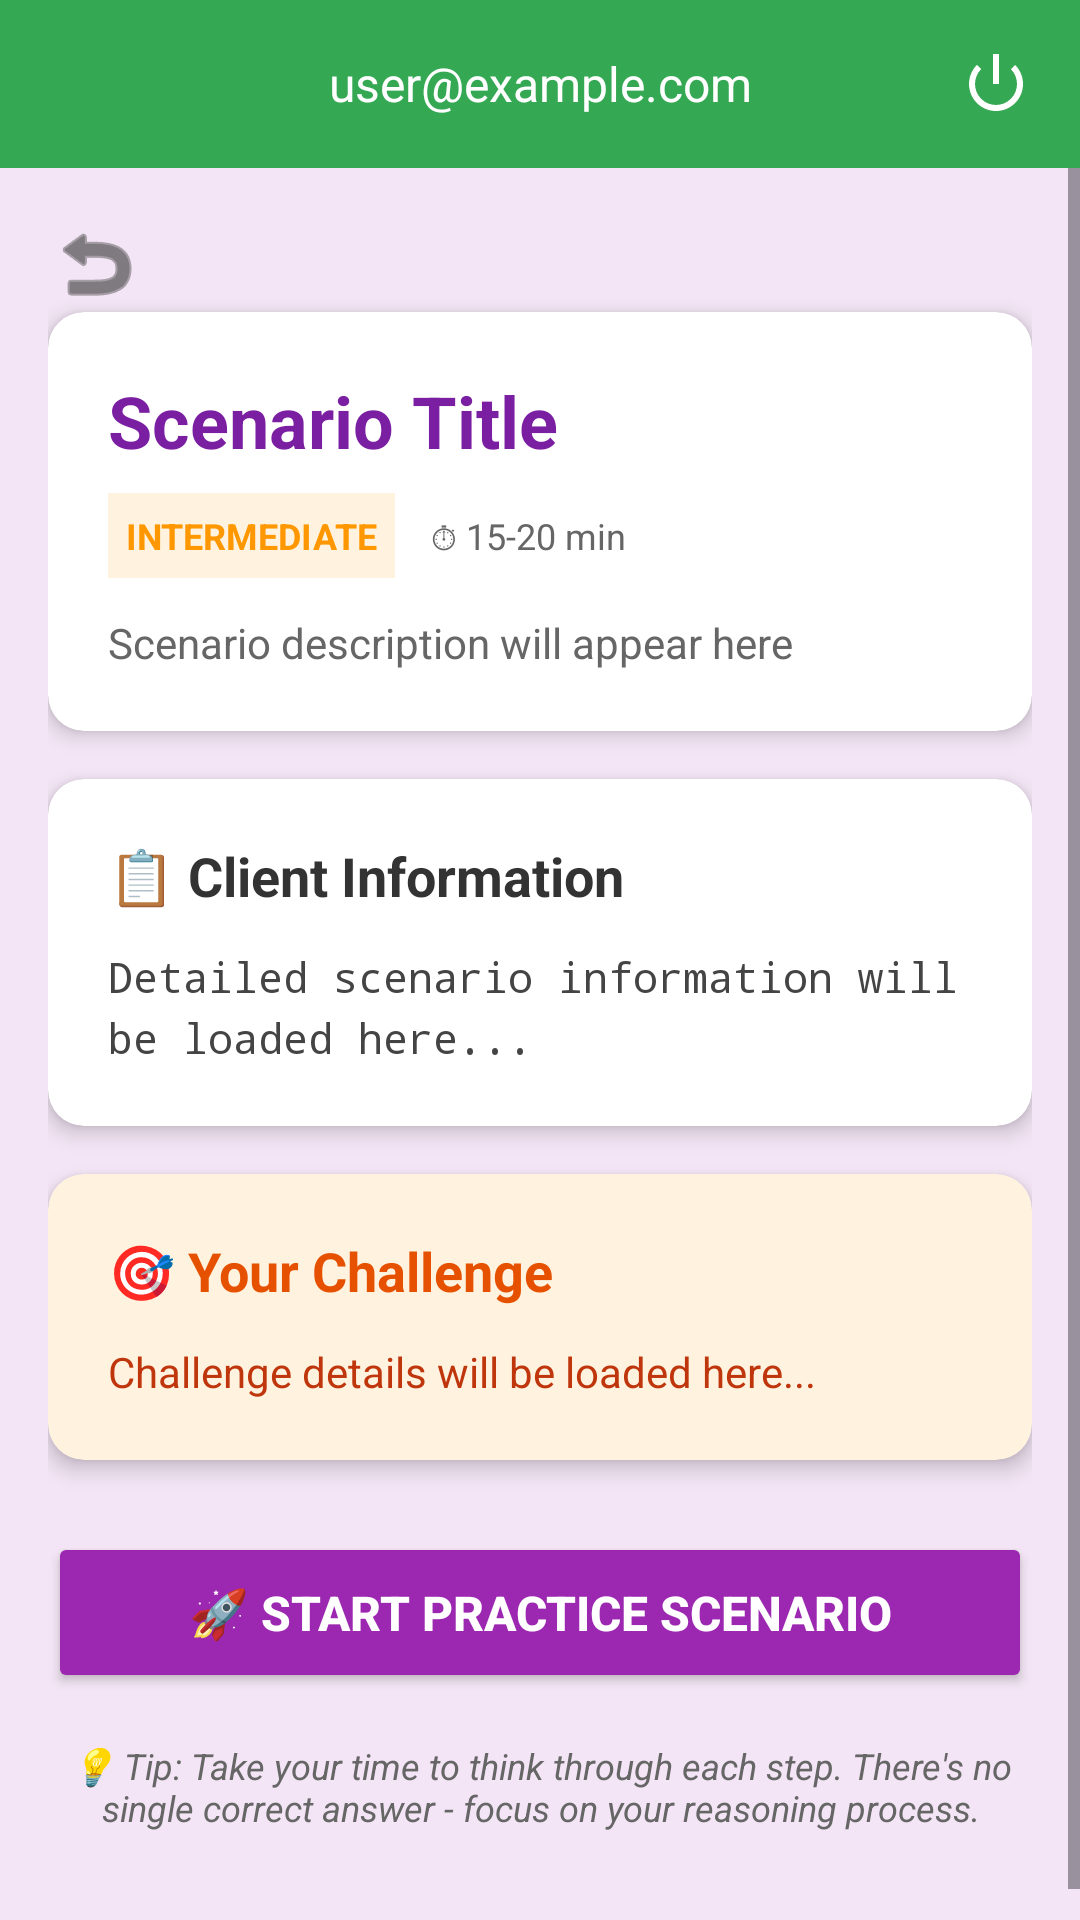

Where icons sit on this 1080*1920 app screen, as (x1,y1,x2,y2):
Back: (63,233,132,296)
